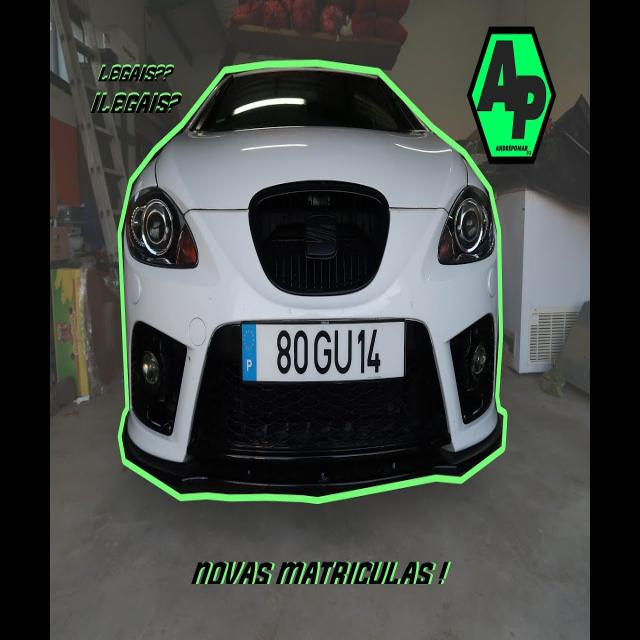portuguese-license-plates: (238, 317, 406, 383)
